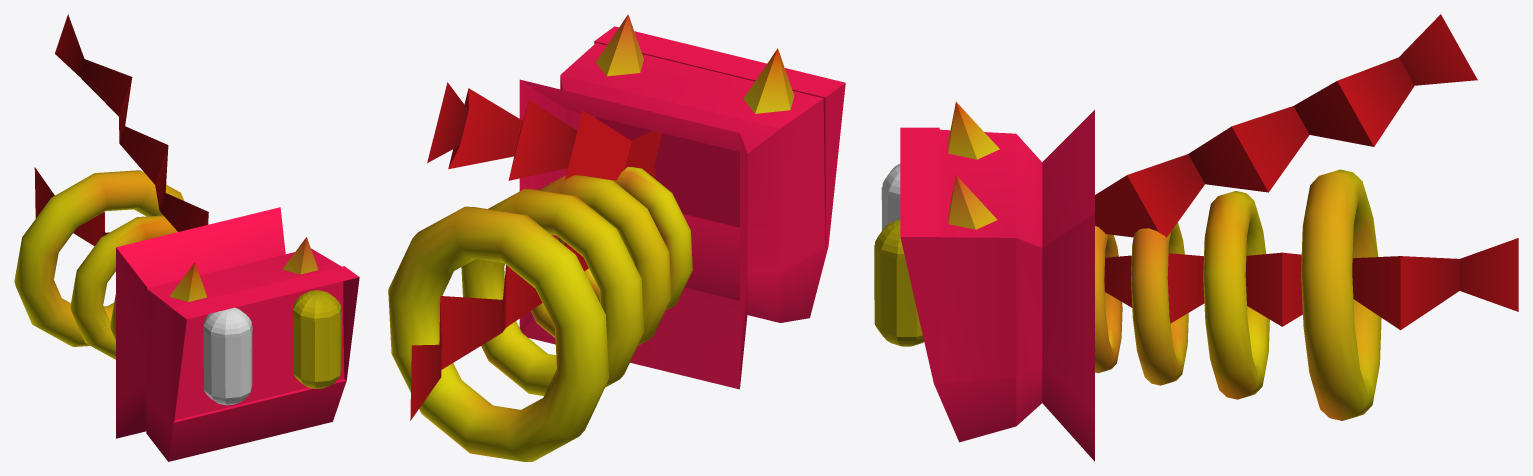
Rendered from mosca.fbx.
The picture shows the model from 3 angles, left to right: view 1: azimuth 30°, elevation 25°; view 2: azimuth 150°, elevation 25°; view 3: azimuth 270°, elevation 25°; orthographic projection. The views are drawn at different scales.
Visible parts, largest first — view 1: Cube, Torus.003, Plane.001, Torus.002, Sphere.001, Sphere.002, Plane, Cone.001, Cone; view 2: Cube, Torus.003, Torus.002, Plane.001, Plane, Torus.001, Torus, Cone.001, Cone; view 3: Cube, Plane.001, Plane, Torus.003, Torus.002, Torus.001, Sphere.001, Torus, Cone.001, Cone, Sphere.002.
Part boxes in pixels (x1,y1,x2,y2): Cube: (116,207,359,461); Torus.003: (14,170,184,346); Plane.001: (55,14,208,231); Torus.002: (70,215,177,359); Sphere.001: (292,290,341,388); Sphere.002: (203,307,252,405); Plane: (34,167,109,245); Cone.001: (169,262,206,301); Cone: (282,237,317,274); Cube: (519,26,845,389); Torus.003: (388,206,608,461); Torus.002: (461,189,644,395); Plane.001: (427,82,662,180); Plane: (410,167,655,420); Torus.001: (531,175,671,345); Torus: (557,167,692,309); Cone.001: (743,48,794,113); Cone: (596,14,643,76); Cube: (900,110,1094,461); Plane.001: (1095,14,1477,237); Plane: (1104,238,1518,330); Torus.003: (1301,169,1381,420); Torus.002: (1203,191,1269,399); Torus.001: (1131,222,1188,385); Sphere.001: (874,219,924,346); Torus: (1095,226,1122,373); Cone.001: (948,102,999,159); Cone: (948,175,997,229); Sphere.002: (881,164,900,230).
Bounding box in the file's own units: 1.1 × 1.86 × 2.73.
